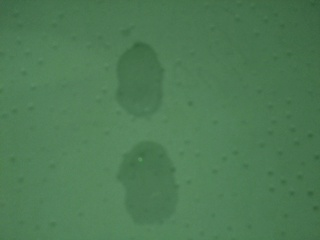Water_detected: (124, 155, 167, 216), (121, 46, 160, 104)
